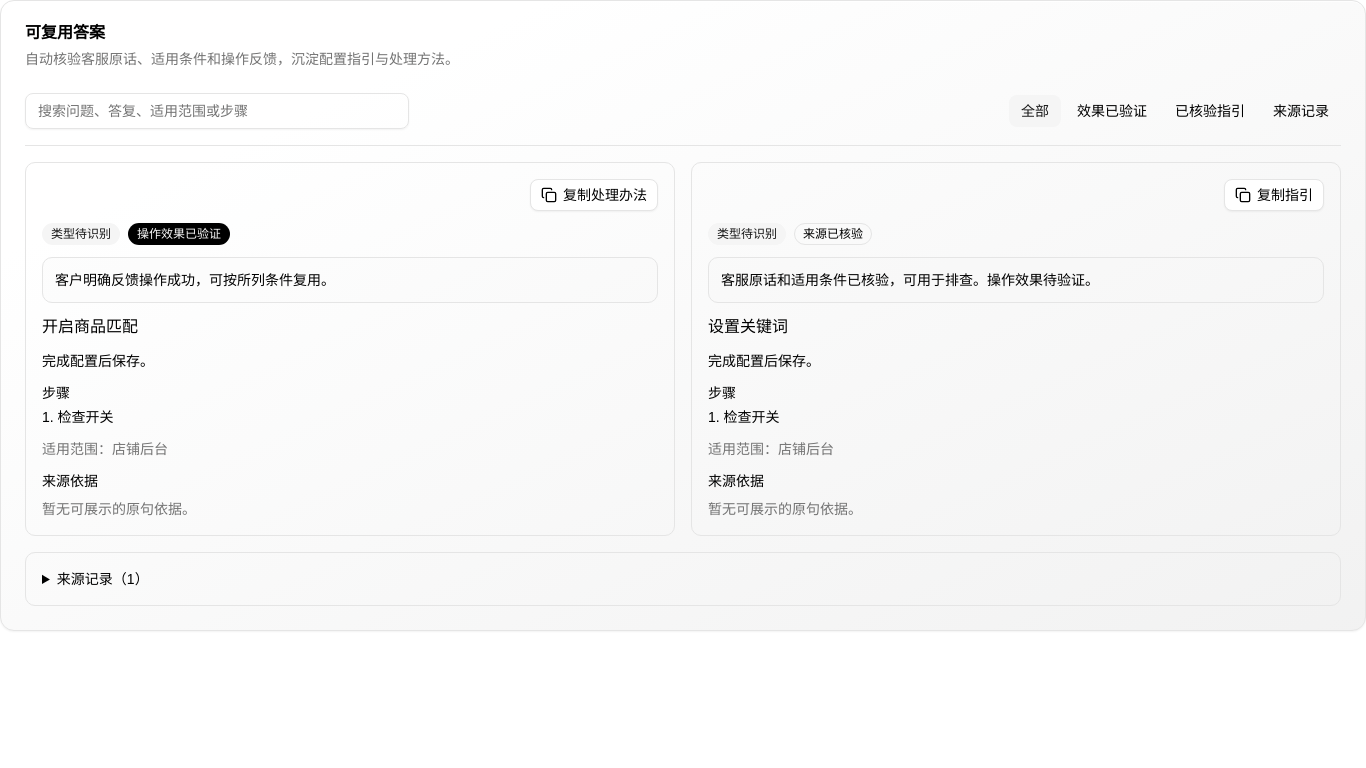
Scenario: finds source records by scope and steps and filters reusable knowledge by evidence level
expect the heading "历史配置答复" is not shown: met
Type "ｅｒｐ 二次验收" into the search field named "搜索知识". click: (217, 111)
box: [25,93,409,129]
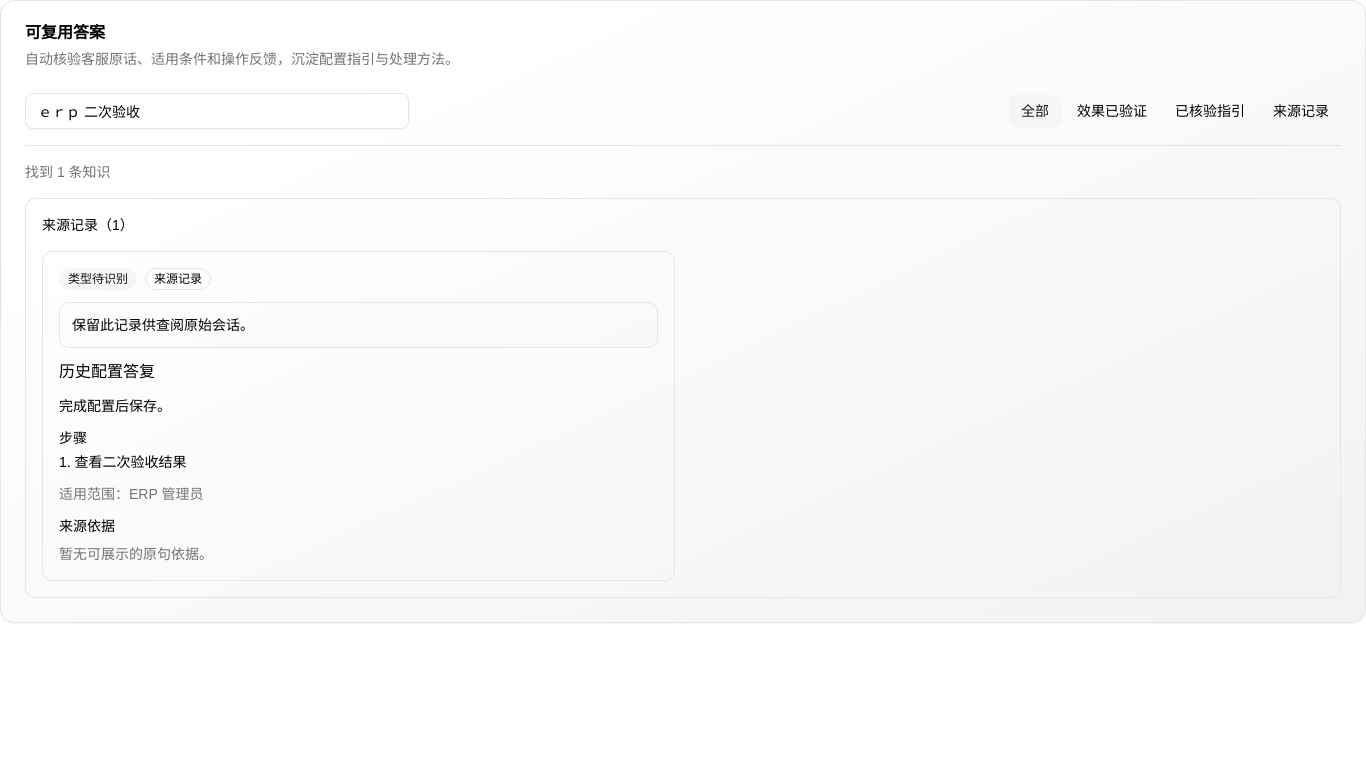
expect the heading "历史配置答复" is shown: met, box [59,363,155,380]
expect the message reads "找到 1 条知识": met, box [25,164,111,180]
expect the button "复制" is gone: met
Click the button "已核验指引". click: (1210, 111)
box: [1163,95,1257,127]
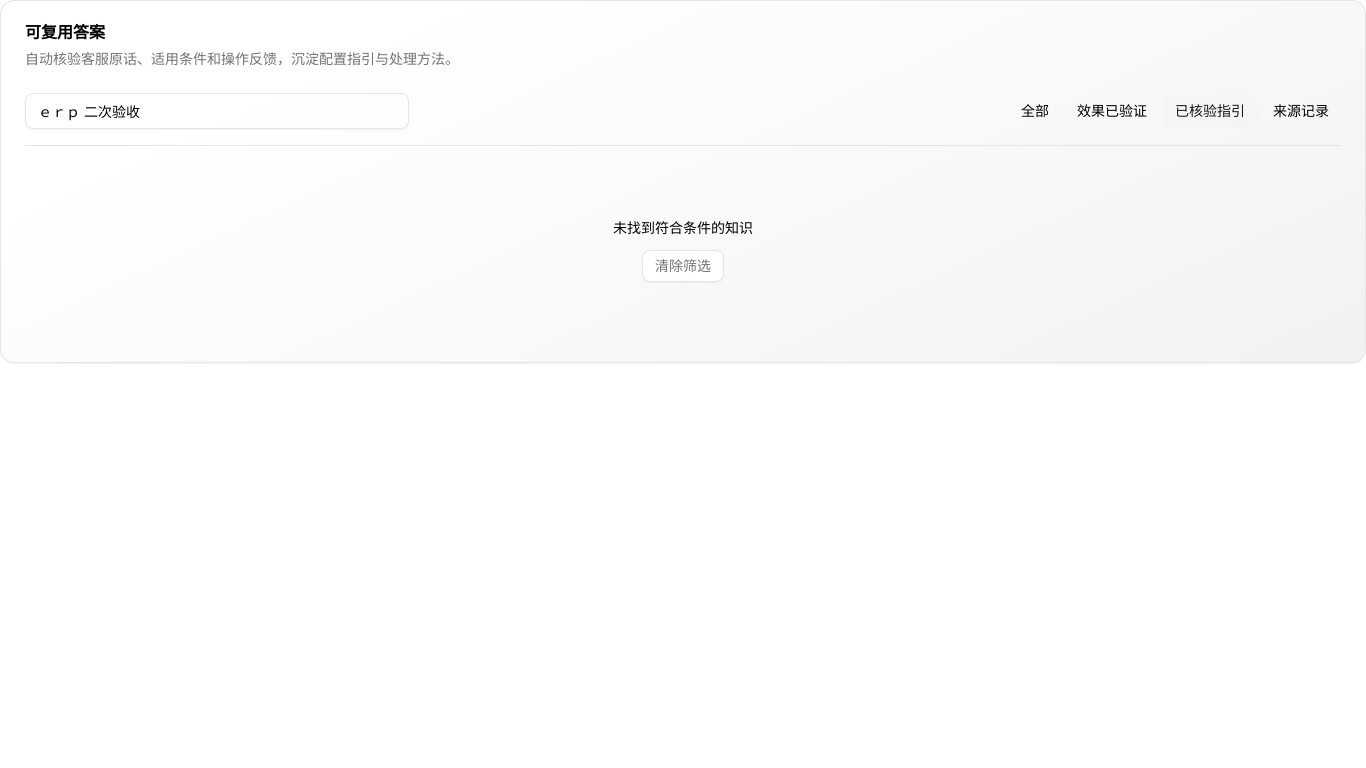
expect the text "未找到符合条件的知识" is shown: met, box [613,218,753,238]
Click the button "清除筛选". click: (683, 266)
box: [642,250,724,282]
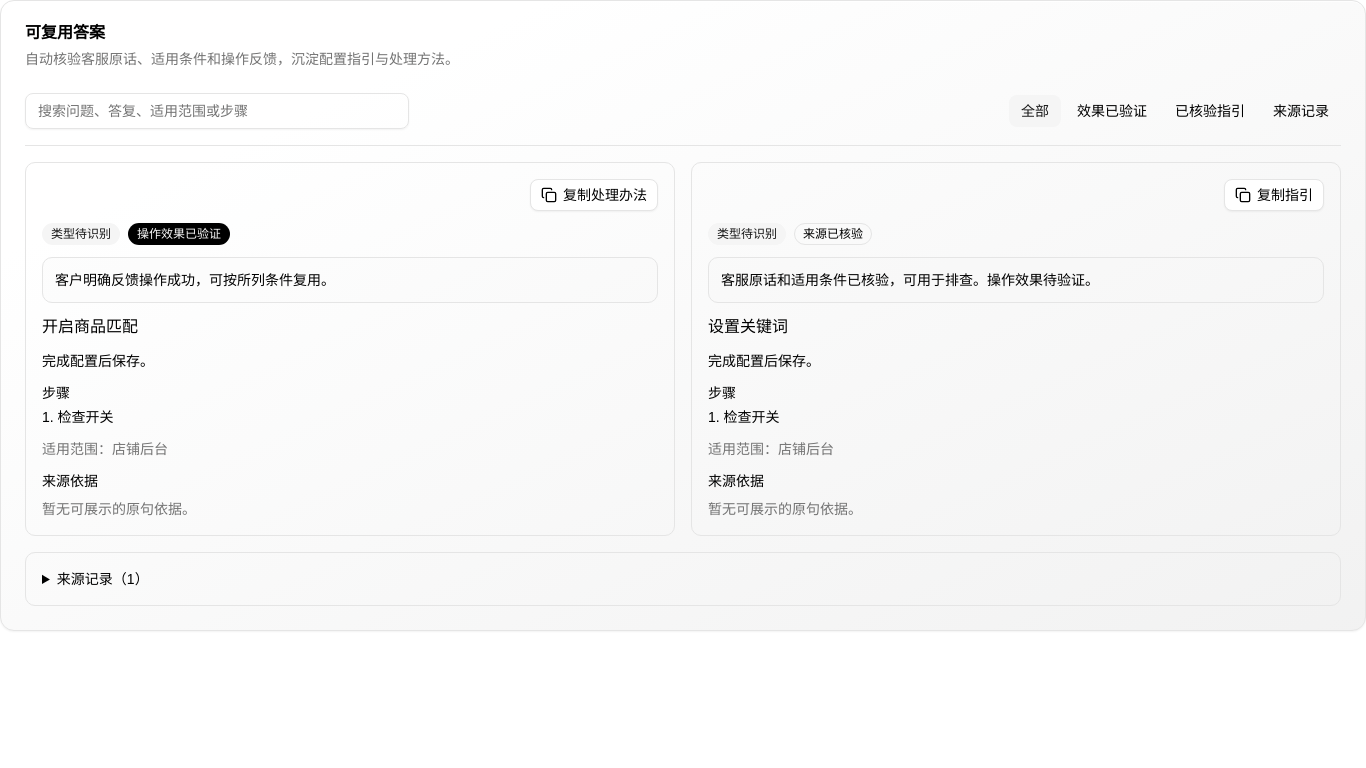
expect the heading "开启商品匹配" is shown: met, box [42,318,138,335]
Click the button "已核验指引". click: (1210, 111)
box: [1163,95,1257,127]
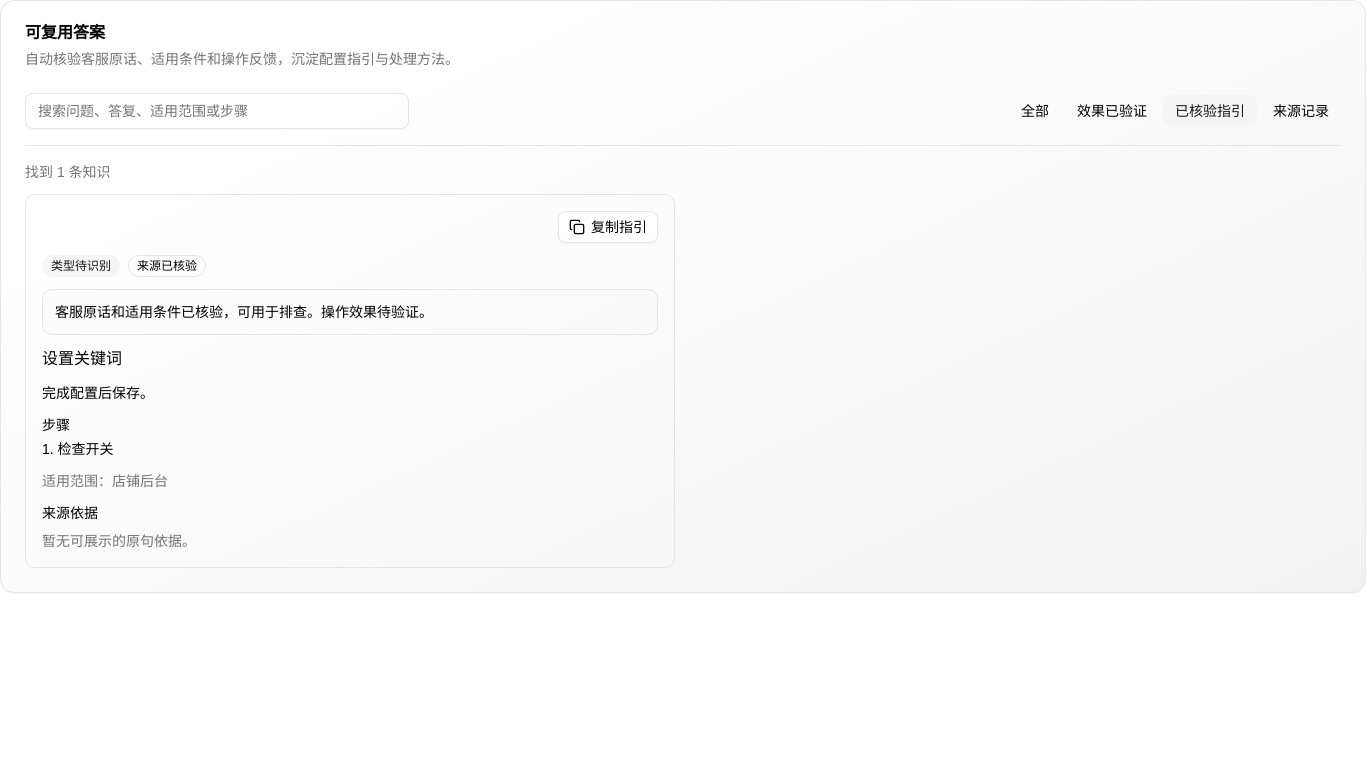
expect the heading "设置关键词" is shown: met, box [42,350,122,367]
expect the button "复制指引" is shown: met, box [558,211,658,243]
expect the heading "开启商品匹配" is gone: met
